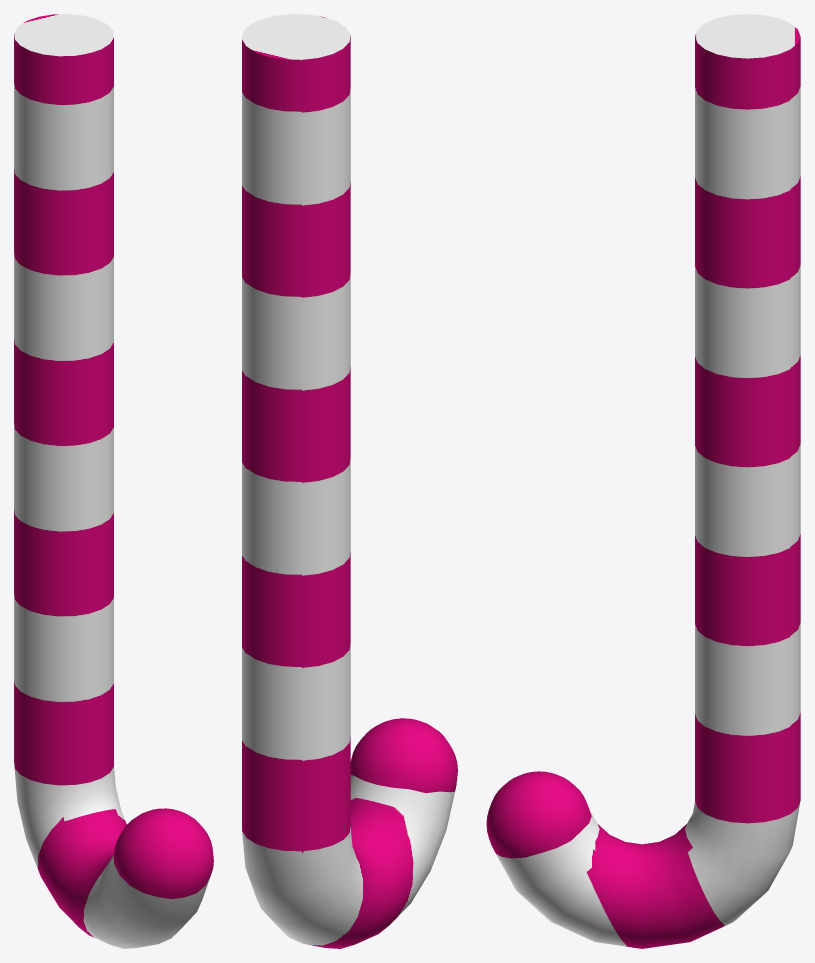
Rendered from pinkstick.fbx.
3 views of the same model, side by side, from view 1: azimuth 30°, elevation 25°; view 2: azimuth 150°, elevation 25°; view 3: azimuth 270°, elevation 25° (orthographic). The views are drawn at different scales.
Parts seen in each view (by area): view 1: pSphere3; view 2: pSphere3; view 3: pSphere3.
Part boxes in pixels (x1,y1,x2,y2): pSphere3: (14, 14, 213, 948); pSphere3: (242, 14, 457, 948); pSphere3: (486, 14, 800, 948).
Bounding box in the file's own units: 2.01 × 19 × 5.95.
Materials: 1 (1 with a texture image).
